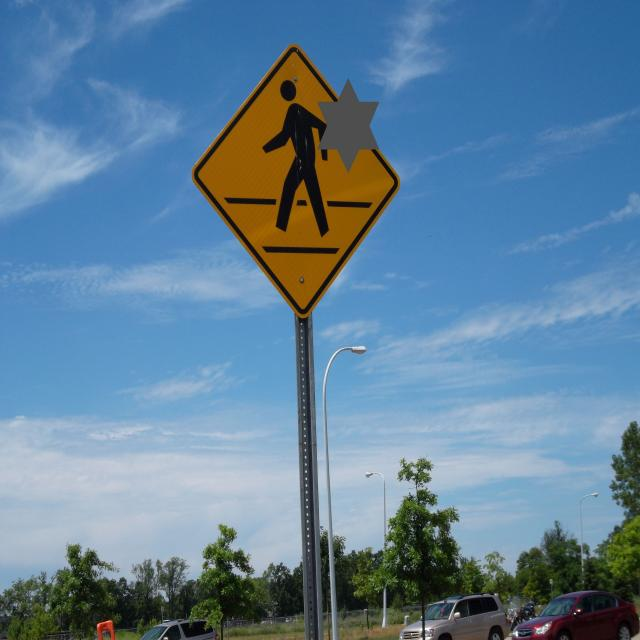warning: (189, 46, 404, 325)
